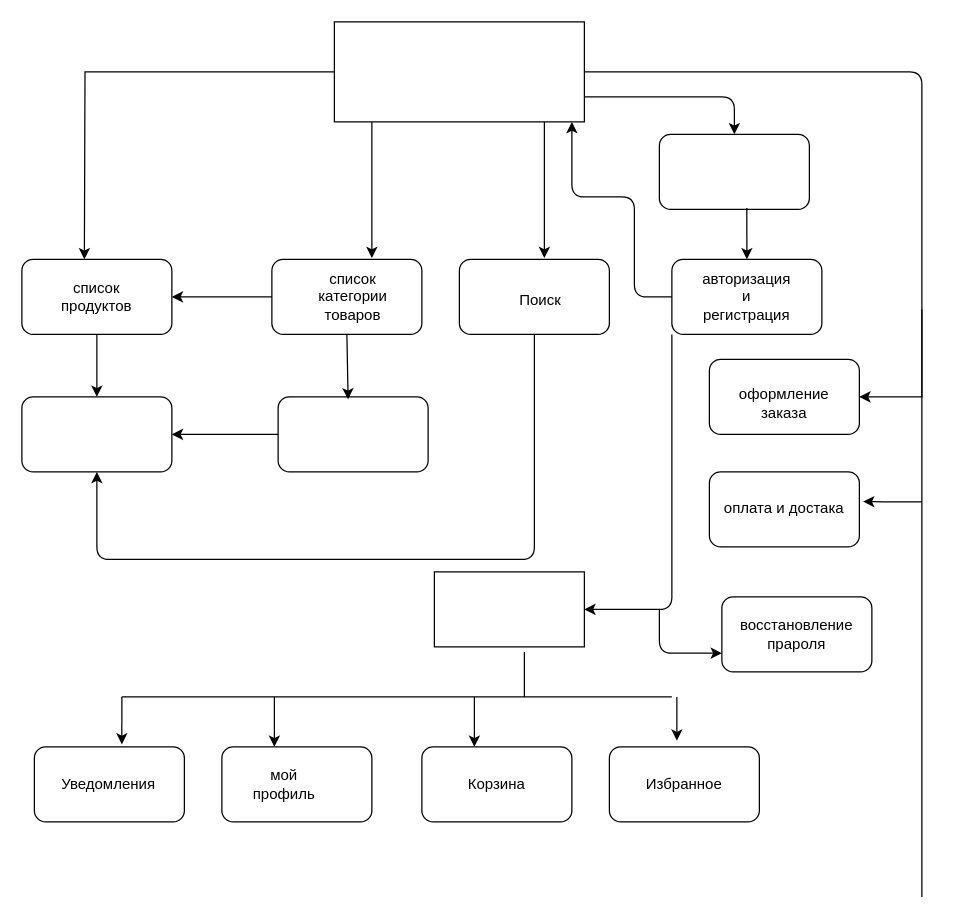
The diagram is 954 pixels wide and 920 high, and some of its shapes have lost their labels. Here are the shapes that lost their labels. From the top down, the centre of each, then its label:
the point at 458,71: Главная
the point at 733,171: вход
the point at 96,434: стр продукта
the point at 352,434: категория товара
the point at 508,609: профиль пользователя
